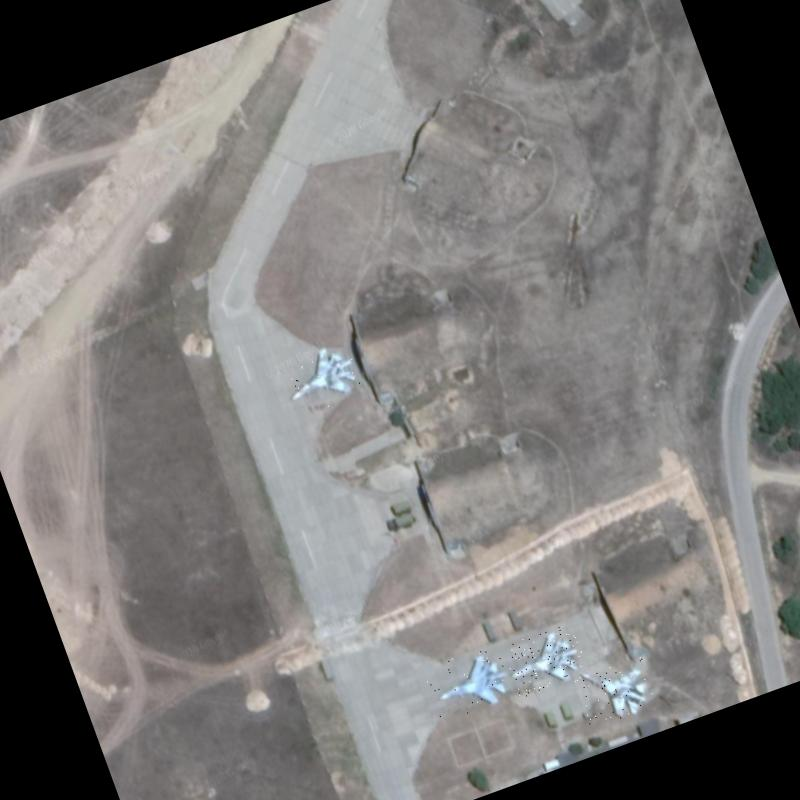A1: (270, 330, 366, 420), (422, 642, 515, 725), (500, 621, 590, 699), (572, 652, 662, 730)
